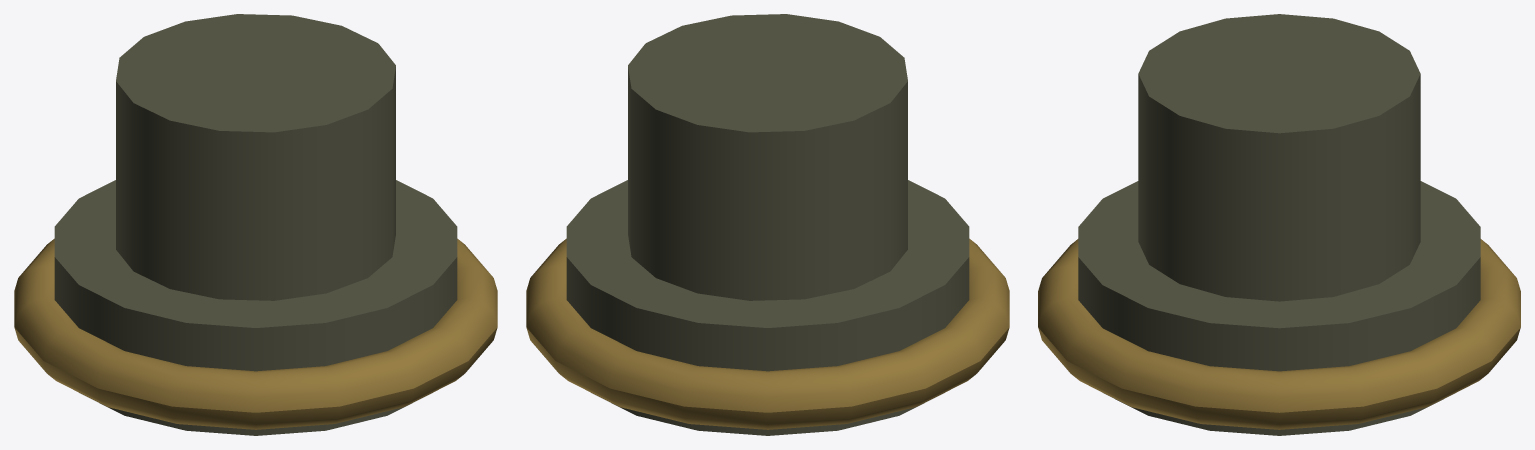
Rendered from sniper_eye.obj.
3 views of the same model, side by side, from view 1: azimuth 30°, elevation 25°; view 2: azimuth 150°, elevation 25°; view 3: azimuth 270°, elevation 25° (orthographic).
Parts seen in each view (by area): view 1: sniper_eye; view 2: sniper_eye; view 3: sniper_eye.
Part boxes in pixels (x1=…): sniper_eye: x1=14, y1=14, x2=497, y2=435; sniper_eye: x1=526, y1=14, x2=1009, y2=435; sniper_eye: x1=1038, y1=14, x2=1520, y2=435.
Size of the model in its own units: 1.32 by 0.82 by 1.3.
